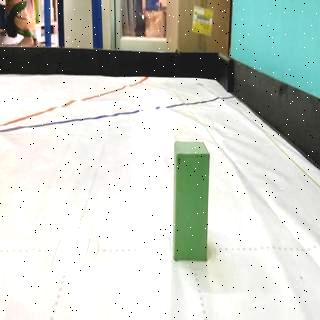greenbox: (173, 138, 210, 262)
